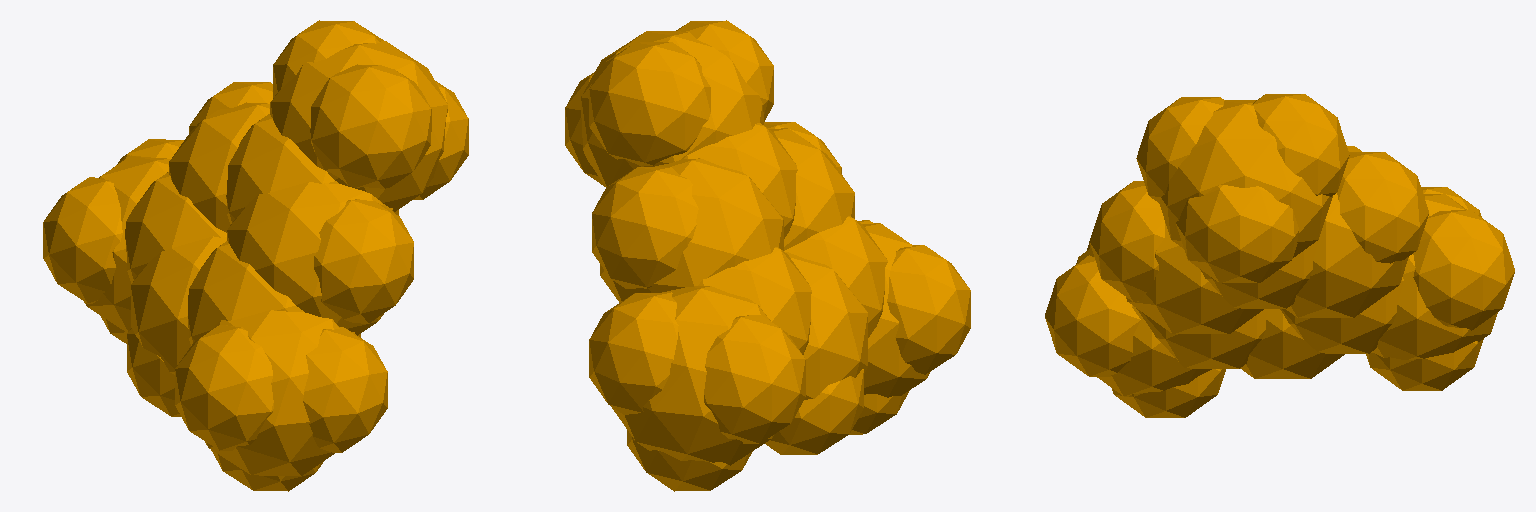
URDF robot description (907758):
<?xml version="1.0"?>
<robot name="907758">
<link name="body">
  <collision>
    <origin rpy="0 0 0" xyz="0 0 0"/>
    <geometry>
     <mesh filename="tests/907758.stl"/>
    </geometry>
  </collision>
  <visual>
    <origin rpy="0 0 0" xyz="0 0 0"/>
    <geometry>
      <mesh filename="tests/907758.stl"/>
    </geometry>
  </visual>
  </link>
</robot>

--- What the picture shows (computed from the rendered views, not written in the file) ---
Views: 3 orthographic renders of the robot side by side, from view 1: azimuth 30°, elevation 25°; view 2: azimuth 150°, elevation 25°; view 3: azimuth 270°, elevation 25°.
Model 907758 with 1 links and 0 joints (none), rooted at body, posed all joints at 0.
Links seen in each view (by area): view 1: body; view 2: body; view 3: body.
Link boxes in pixels (box(x1,y1,x2,y2)): body: box(43, 20, 468, 491); body: box(565, 20, 970, 491); body: box(1045, 94, 1514, 417).
Bounding box of the posed robot: 6.98 × 8.78 × 7.79 m (x, y, z).
1 mesh visuals loaded from 1 distinct referenced files (1 binary STL).